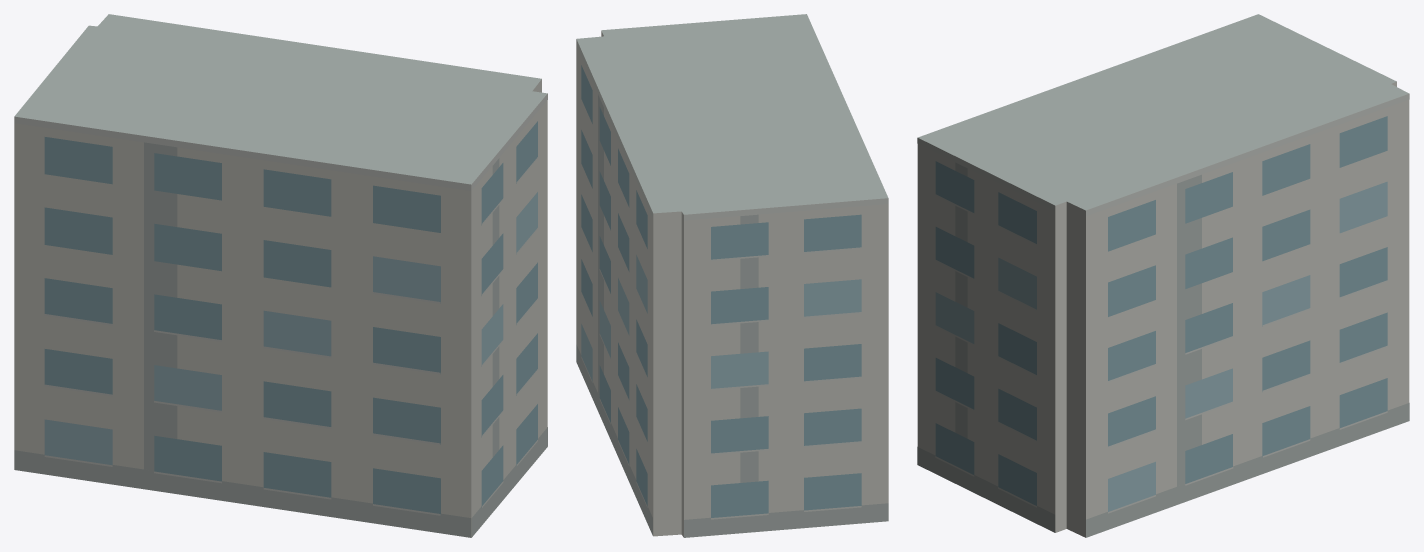
File: survey-upis-32630483.glb
The picture shows the model from 3 angles, left to right: view 1: azimuth 30°, elevation 25°; view 2: azimuth 150°, elevation 25°; view 3: azimuth 270°, elevation 25°; orthographic projection. The views are drawn at different scales.
Visible parts, largest first — view 1: survey-upis-32630483.tmp; view 2: survey-upis-32630483.tmp; view 3: survey-upis-32630483.tmp.
Boxes of the visible parts, left/top/right/bottom form: survey-upis-32630483.tmp: left=14, top=14, right=547, bottom=537; survey-upis-32630483.tmp: left=576, top=14, right=888, bottom=537; survey-upis-32630483.tmp: left=917, top=14, right=1409, bottom=537.
Size of the model in its own units: 17 by 13.2 by 17.98.
